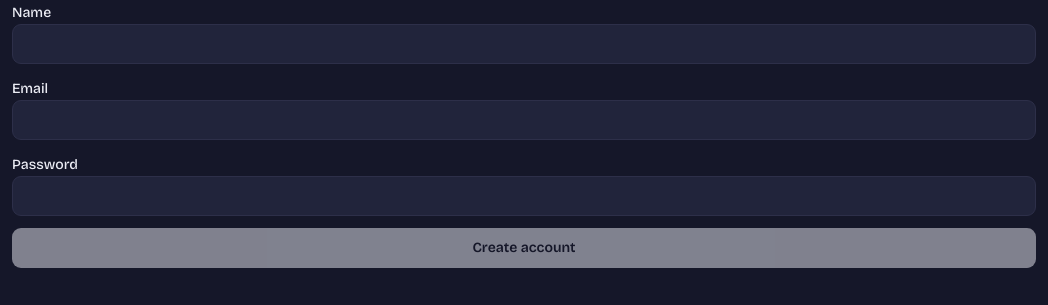
Test case: associates the signup password length error with its field
In the field labelled "Name": (524, 44) [12,24,1036,64], type "Someone"
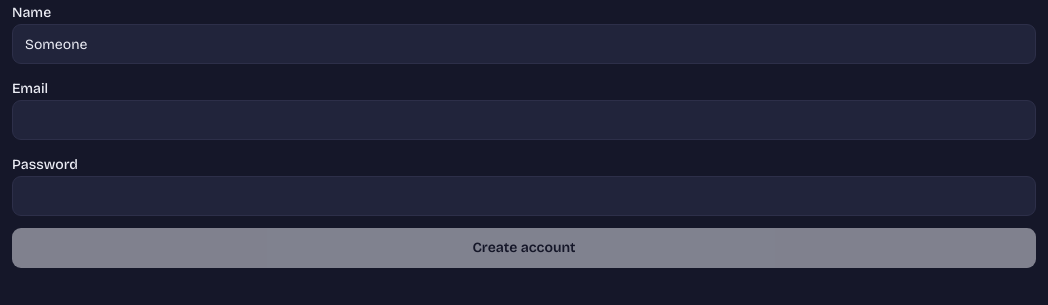
In the field labelled "Email": (524, 120) [12,100,1036,140], type "someone@example.com"
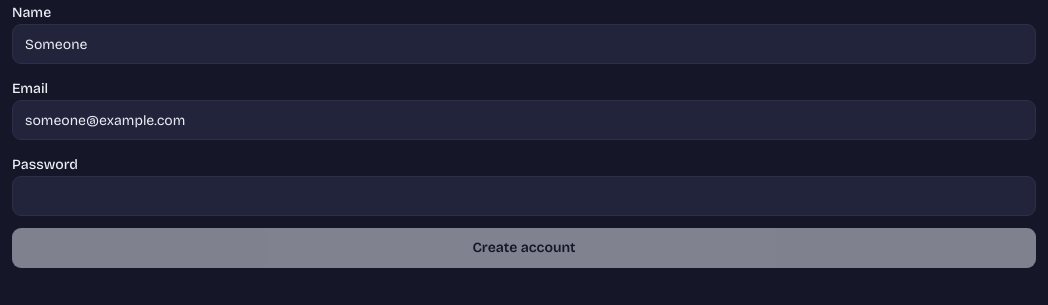
In the password field labelled "Password": (524, 196) [12,176,1036,216], type "short"
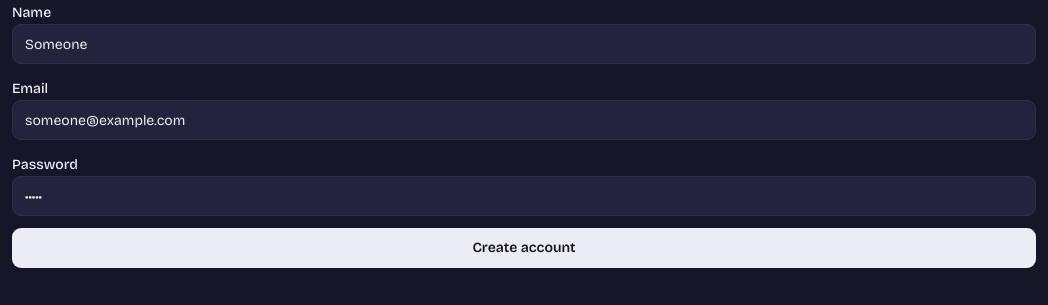
Click the button "Create account": (524, 248) [12,228,1036,268]
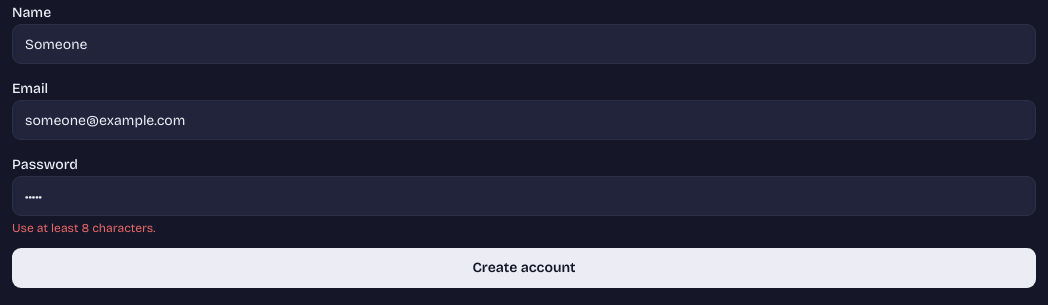
Now the message "Use at least 8 characters." is shown, box [12,221,155,235]
